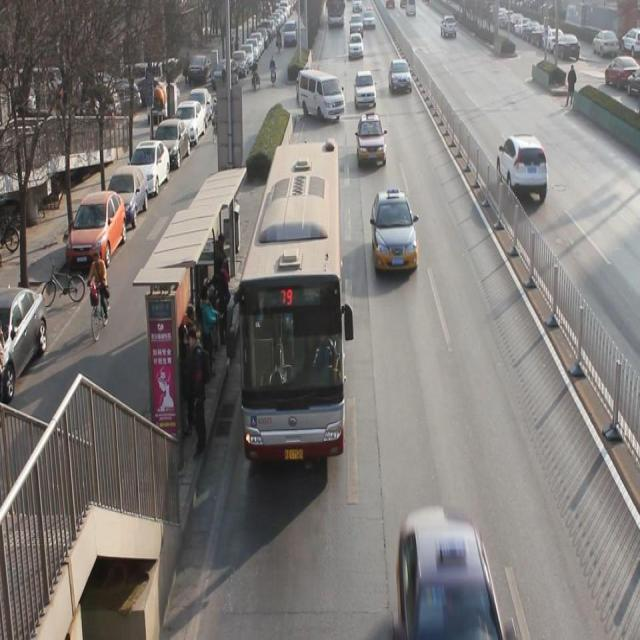car: (371, 188, 420, 281), (496, 132, 551, 206), (357, 113, 388, 169), (387, 58, 415, 96), (354, 68, 380, 106), (298, 66, 317, 110), (347, 31, 366, 58), (441, 14, 460, 39)
truck: (404, 518, 499, 630), (302, 70, 344, 124)
van: (236, 146, 342, 461)
